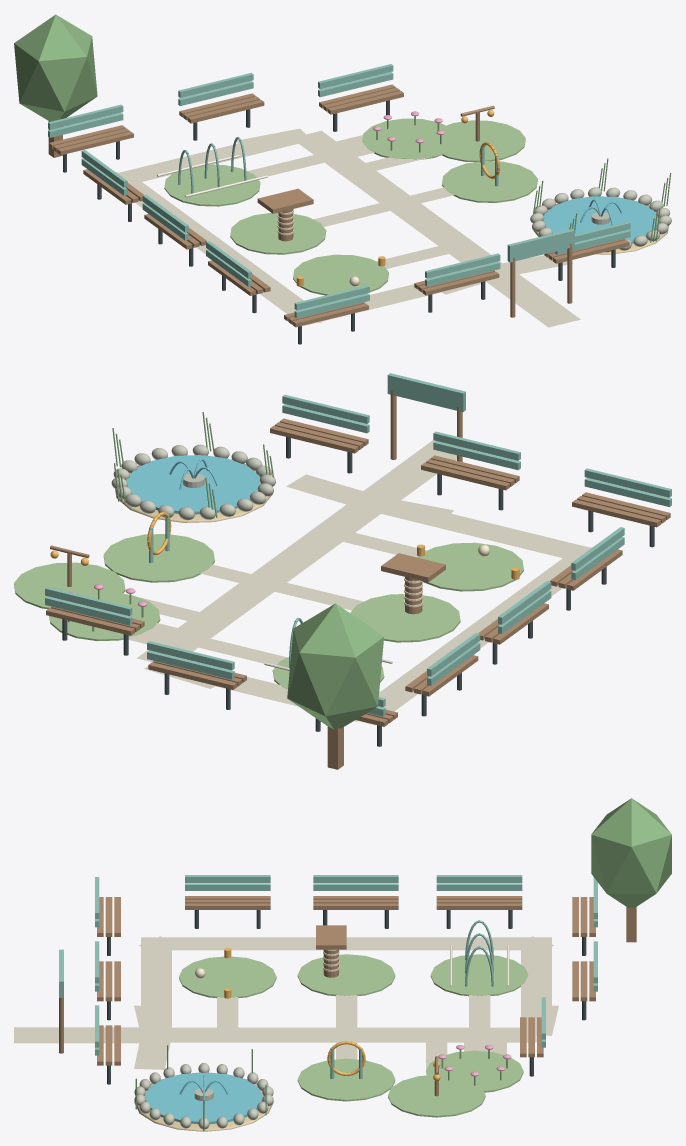
Rendered from park.glb.
3 renders of one model, top to bottom at view 1: azimuth 30°, elevation 25°; view 2: azimuth 150°, elevation 25°; view 3: azimuth 270°, elevation 25°, orthographic. The views are drawn at different scales.
Visible parts, largest first — view 1: activity lawn.001, activity path, bench back.001, bench seat.001, flower stem, bubbling water.001, fountain base, bench foot.001, agility hoop.001; view 2: activity path, activity lawn.001, bench back.001, bench seat.001, flower stem, bubbling water.001, fountain base, bench foot.001, curved pond bank, agility hoop.001; view 3: activity path, activity lawn.001, bench seat.001, flower stem, bench back.001, bubbling water.001, fountain base, bench foot.001, curved pond bank, agility hoop.001.
Boxes of the visible parts, x1,y1,x2,y2 form: activity lawn.001: (164,118,537,295); activity path: (116,128,580,327); bench back.001: (48,64,630,318); bench seat.001: (48,84,629,327); flower stem: (14,14,671,242); bubbling water.001: (543,196,658,243); fountain base: (530,187,671,252); bench foot.001: (63,100,615,344); agility hoop.001: (296,110,500,286); activity path: (122,440,592,725); activity lawn.001: (14,534,523,688); bench back.001: (45,373,671,716); bench seat.001: (46,390,670,769); flower stem: (68,412,383,729); bubbling water.001: (126,455,260,514); fountain base: (111,444,275,520); bench foot.001: (62,437,654,746); curved pond bank: (115,459,273,522); agility hoop.001: (50,512,519,579); activity path: (14,936,558,1075); activity lawn.001: (179,954,528,1117); bench seat.001: (59,896,636,1096); flower stem: (135,798,671,1130); bench back.001: (59,875,597,1078); bubbling water.001: (145,1072,262,1124); fountain base: (134,1063,273,1129); bench foot.001: (107,910,586,1084); curved pond bank: (134,1075,273,1131); agility hoop.001: (224,948,440,1080).
Size of the model in its own units: 10.82 by 3.33 by 13.85.
